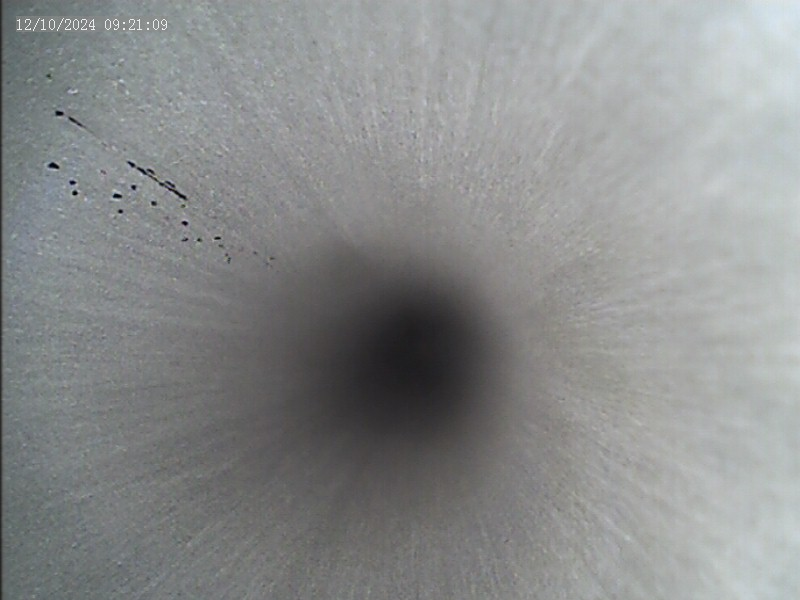defective_area: (45, 86, 274, 276)
